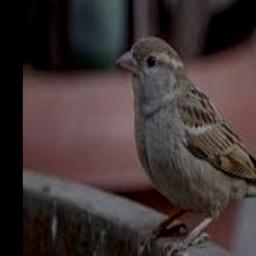Sparrow: (114, 36, 256, 256)
